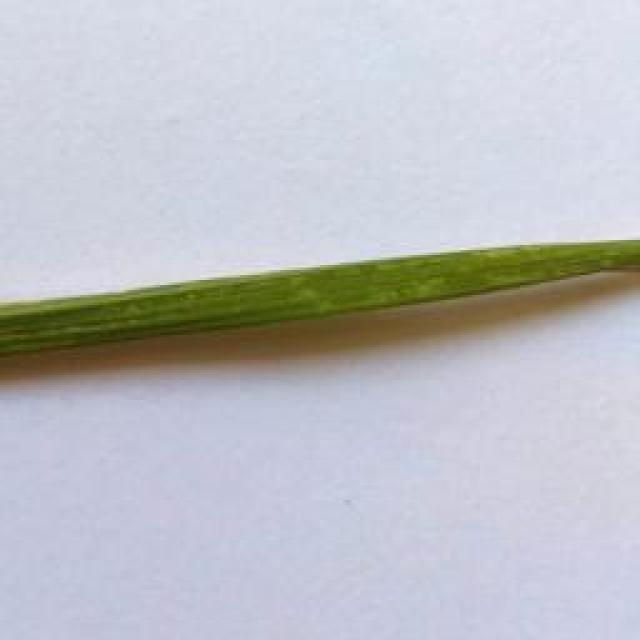Healthy-Plant: (0, 225, 640, 373)
